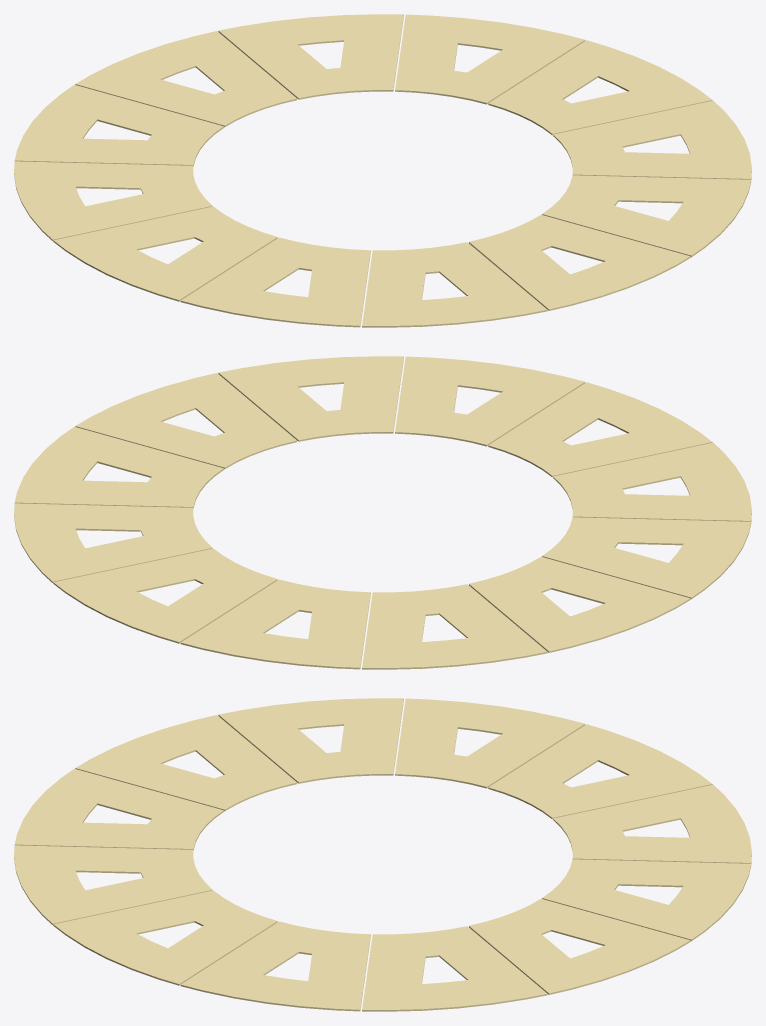
Rendered from windings.gltf.
3 views of the same model, one above another, from view 1: azimuth 30°, elevation 25°; view 2: azimuth 150°, elevation 25°; view 3: azimuth 270°, elevation 25° (orthographic).
Parts seen in each view (by area): view 1: winding (×12); view 2: winding (×12); view 3: winding (×12).
Part boxes in pixels (<box>): winding (×12): <box>14,14,751,327</box>; winding (×12): <box>14,356,751,669</box>; winding (×12): <box>14,698,751,1011</box>.
Bounding box in the file's own units: 0.084 × 0.0002 × 0.084.
